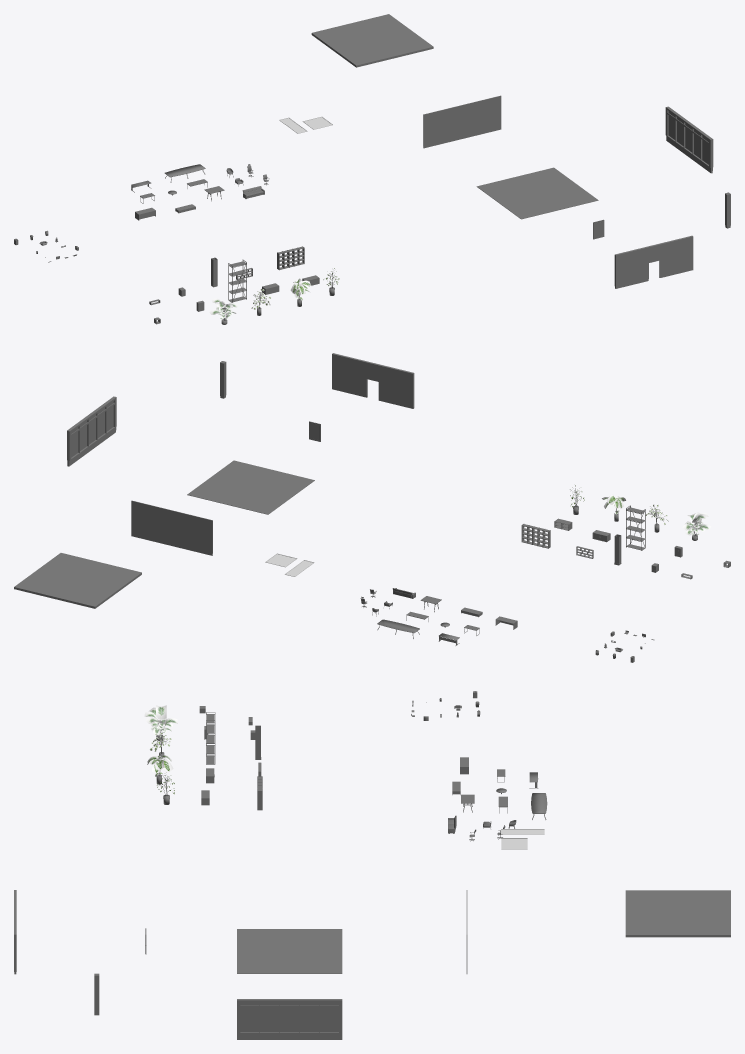
The model's file is 1F_Prefeb.fbx.
3 renders of one model, top to bottom at view 1: azimuth 30°, elevation 25°; view 2: azimuth 150°, elevation 25°; view 3: azimuth 270°, elevation 25°, orthographic. The views are drawn at different scales.
Parts seen in each view (by area): view 1: Ceiling, Floor, Wall, DoorWall, WindowWall, Window, Storage; view 2: Ceiling, Floor, Wall, DoorWall, WindowWall, Storage (×2), Window; view 3: Ceiling, Floor, Window, WindowWall, Leaf.
Boxes of the visible parts, bbox=[...] form: Ceiling: bbox=[311, 14, 433, 67]; Floor: bbox=[476, 167, 598, 219]; Wall: bbox=[423, 95, 501, 148]; DoorWall: bbox=[614, 235, 693, 288]; WindowWall: bbox=[665, 106, 713, 173]; Window: bbox=[668, 111, 708, 164]; Storage: bbox=[228, 259, 246, 302]; Ceiling: bbox=[14, 553, 141, 608]; Floor: bbox=[187, 460, 314, 514]; Wall: bbox=[131, 500, 212, 555]; DoorWall: bbox=[332, 353, 414, 408]; WindowWall: bbox=[67, 396, 116, 466]; Storage (×2): bbox=[521, 505, 645, 550]; Window: bbox=[71, 401, 113, 457]; Ceiling: bbox=[625, 890, 730, 937]; Floor: bbox=[237, 929, 342, 973]; Window: bbox=[240, 1002, 338, 1032]; WindowWall: bbox=[237, 999, 342, 1039]; Leaf: bbox=[144, 705, 177, 735].
Size of the model in its own units: 926 by 55.33 by 817.
